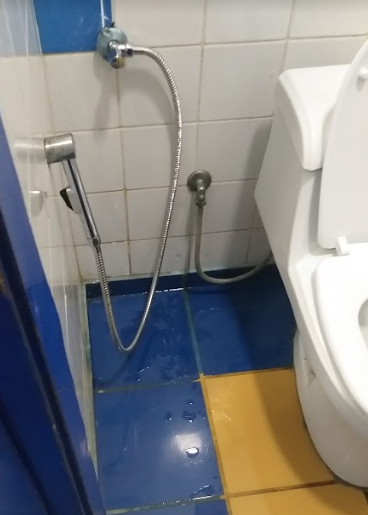Toilet: (31, 16, 368, 475)
